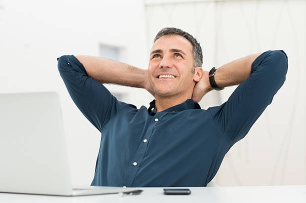male: (145, 31, 200, 103)
